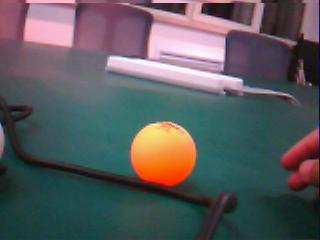oball: (130, 121, 197, 186)
